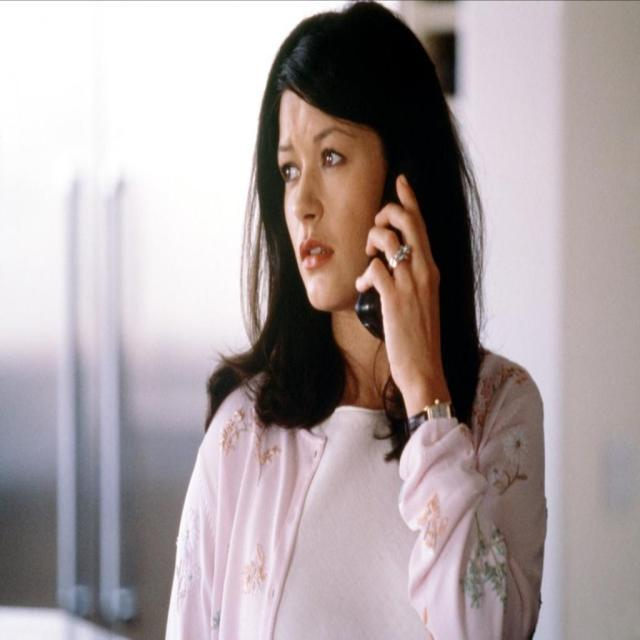Face: (282, 81, 405, 320)
